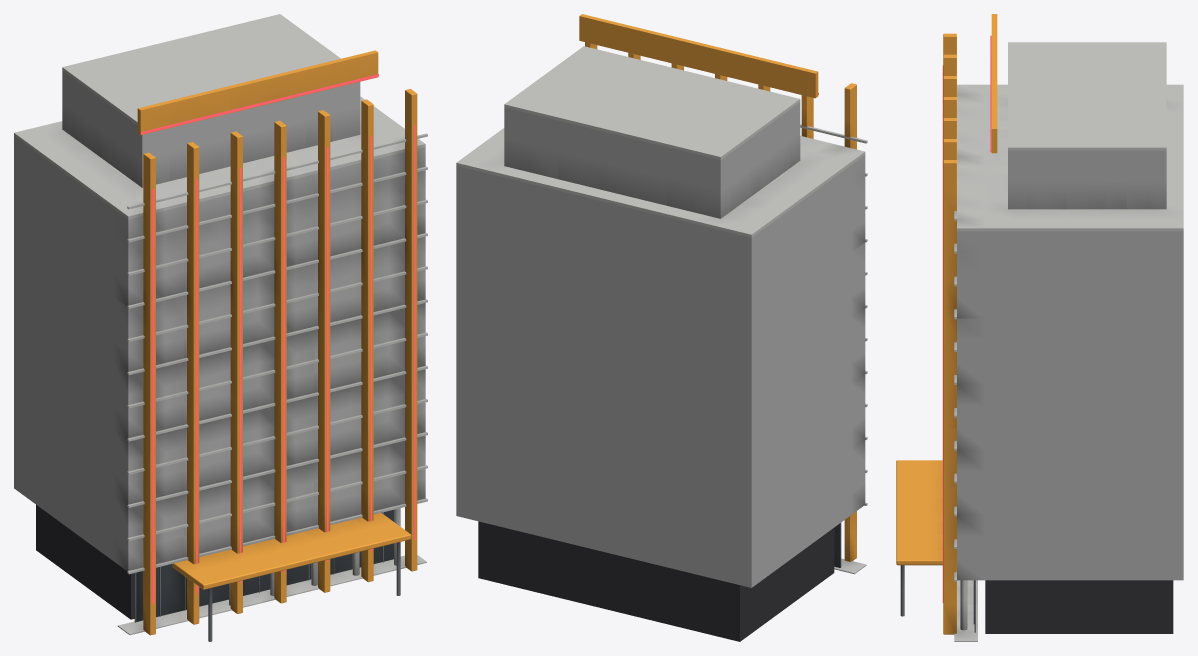
The model's file is lm_hwl.glb.
3 views of the same model, side by side, from view 1: azimuth 30°, elevation 25°; view 2: azimuth 150°, elevation 25°; view 3: azimuth 270°, elevation 25° (orthographic).
Parts seen in each view (by area): view 1: body; view 2: body; view 3: body.
Part boxes in pixels (<box>): body: <box>14,14,427,641</box>; body: <box>456,14,867,641</box>; body: <box>896,14,1183,641</box>.
Size of the model in its own units: 30.2 by 48.6 by 25.35.
